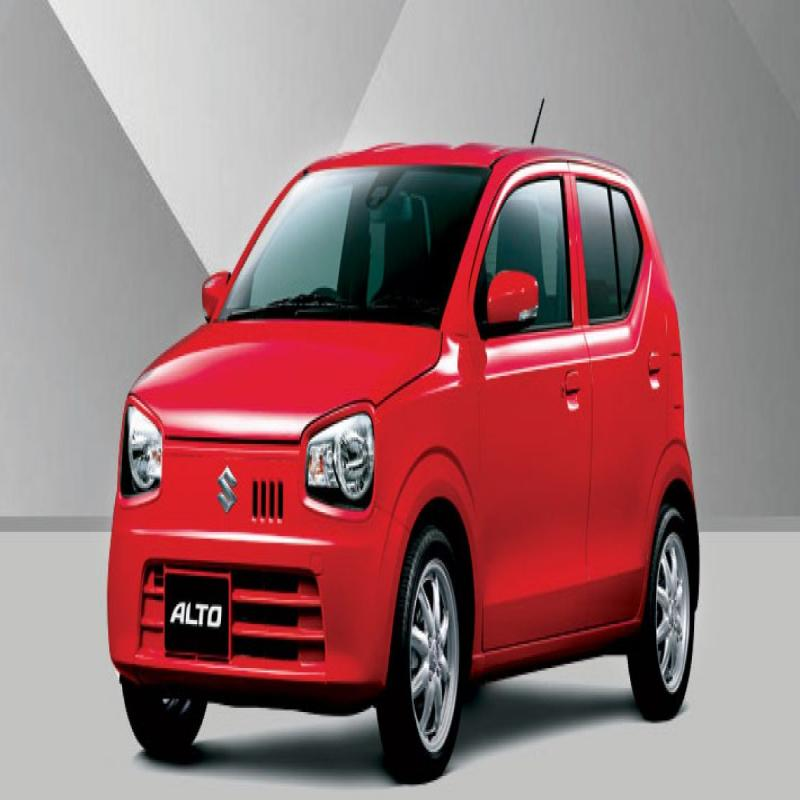car: (92, 134, 689, 765)
